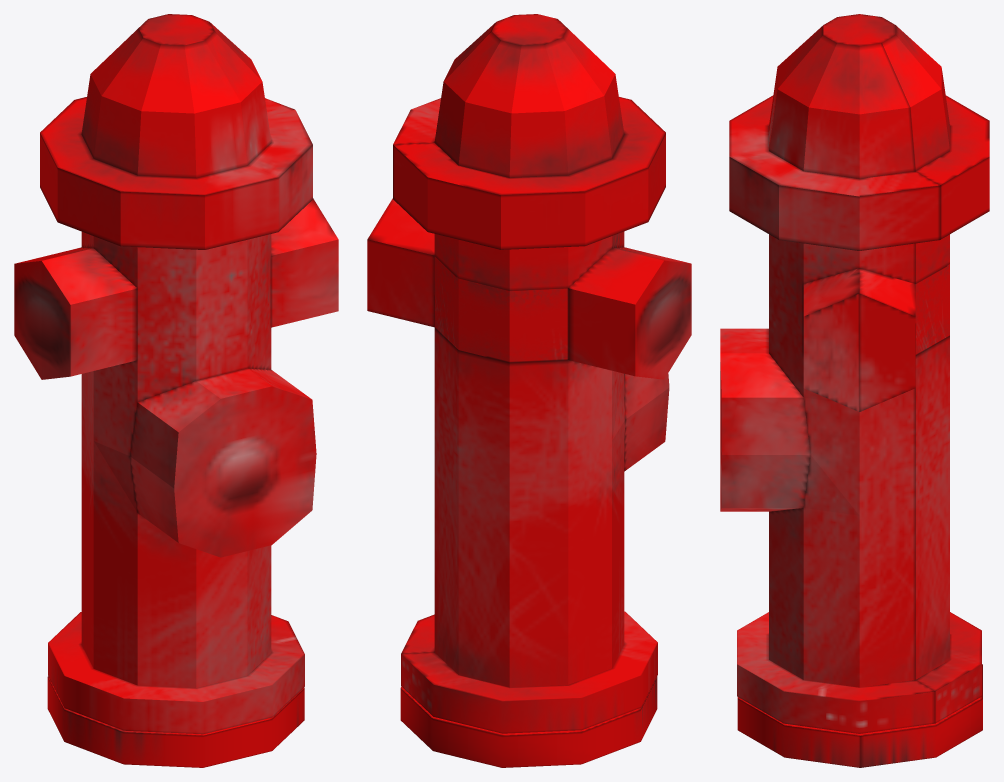
File: Gedrant_01.FBX
3 renders of one model, left to right at view 1: azimuth 30°, elevation 25°; view 2: azimuth 150°, elevation 25°; view 3: azimuth 270°, elevation 25°, orthographic.
Visible parts, largest first — view 1: Cylinder048, Cylinder047; view 2: Cylinder048, Cylinder047; view 3: Cylinder048, Cylinder047.
Boxes of the visible parts, <box> form: Cylinder048: <box>14,14,338,734</box>; Cylinder047: <box>47,676,304,767</box>; Cylinder048: <box>367,14,691,733</box>; Cylinder047: <box>400,676,657,767</box>; Cylinder048: <box>720,14,989,733</box>; Cylinder047: <box>737,664,982,767</box>.
Bounding box in the file's own units: 57.93 × 141 × 50.31.
